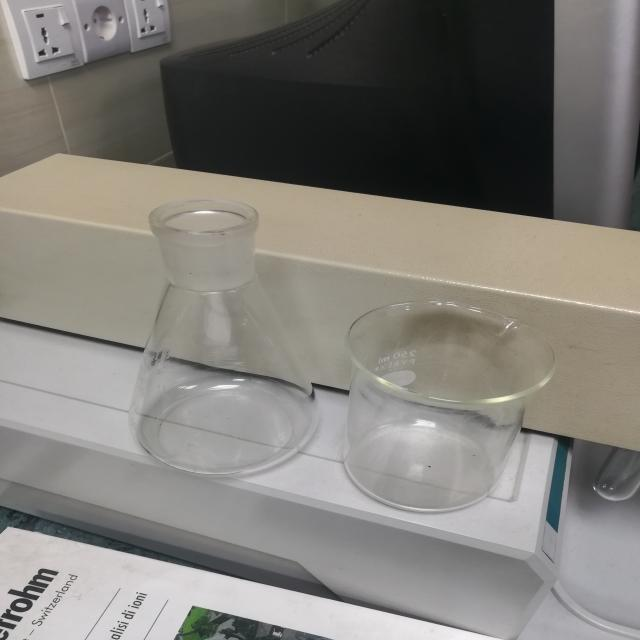Beaker: (336, 284, 564, 520)
Conical_Flask: (110, 186, 322, 498)
